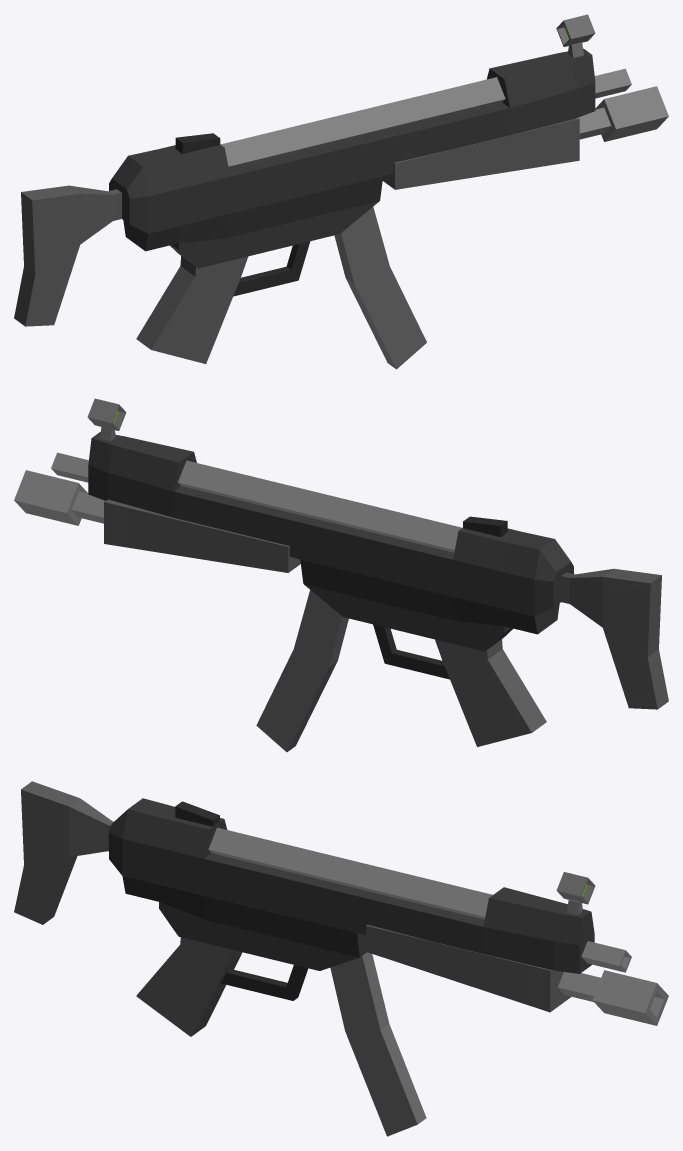
Rendered from smg.fbx.
3 views of the same model, one above another, from view 1: azimuth 30°, elevation 25°; view 2: azimuth 150°, elevation 25°; view 3: azimuth 330°, elevation 25° (orthographic).
Visible parts, largest first — view 1: smg, mag; view 2: smg, mag; view 3: smg, mag.
Boxes of the visible parts, x1=… form: smg: x1=14, y1=14, x2=668, y2=363; mag: x1=334, y1=207, x2=426, y2=369; smg: x1=14, y1=398, x2=668, y2=746; mag: x1=256, y1=590, x2=348, y2=752; smg: x1=14, y1=781, x2=668, y2=1036; mag: x1=330, y1=952, x2=426, y2=1136.
Bounding box in the file's own units: 59.18 × 26.92 × 4.63.
Materials: 1 (1 with a texture image).
